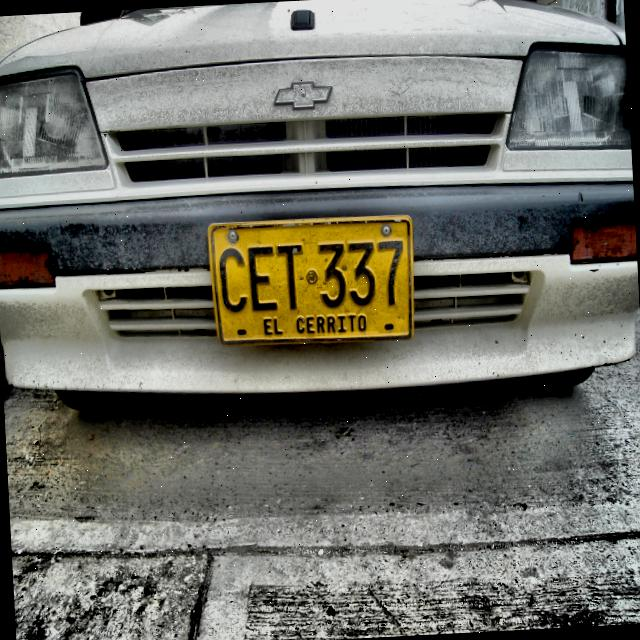plate: (208, 215, 415, 347)
